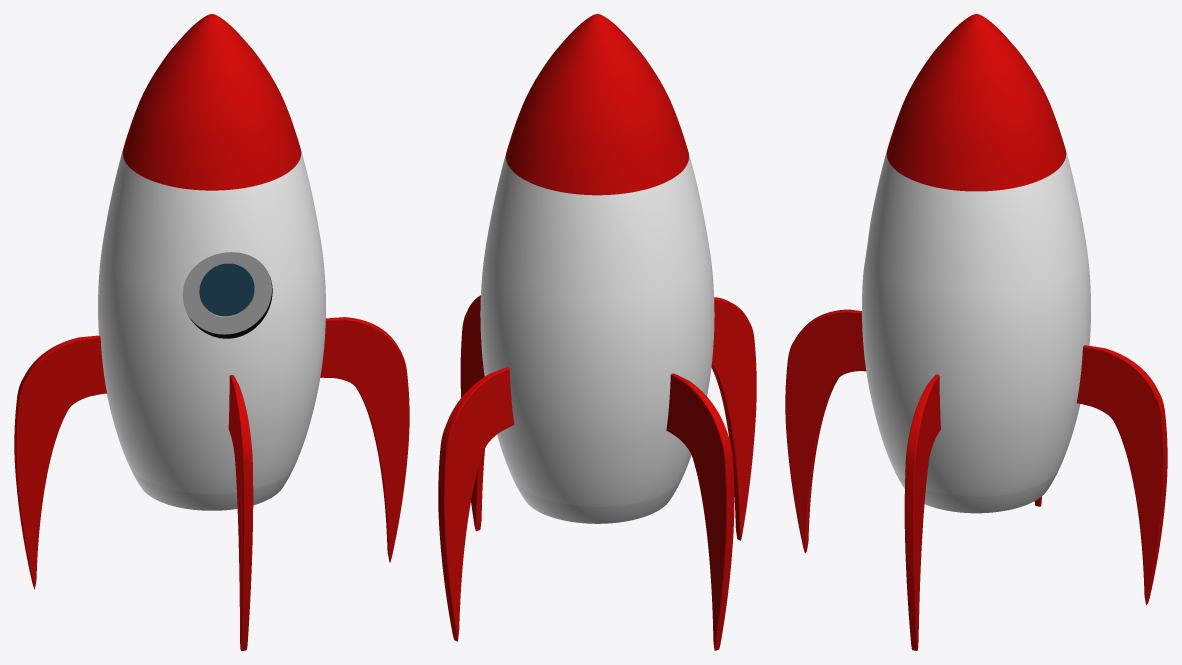
The model's file is 卡通红白小火箭.fbx.
The picture shows the model from 3 angles, left to right: view 1: azimuth 30°, elevation 25°; view 2: azimuth 150°, elevation 25°; view 3: azimuth 270°, elevation 25°; orthographic projection. The views are drawn at different scales.
Parts seen in each view (by area): view 1: Rocket; view 2: Rocket; view 3: Rocket.
Boxes of the visible parts, left/top/right/bottom form: Rocket: left=14, top=14, right=409, bottom=650; Rocket: left=438, top=14, right=756, bottom=650; Rocket: left=785, top=14, right=1167, bottom=650.
Size of the model in its own units: 10.23 by 16.62 by 10.23.
